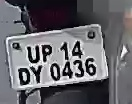0: (48, 61, 62, 82)
1: (56, 40, 70, 61)
3: (71, 57, 86, 80)
4: (62, 61, 75, 81), (71, 39, 84, 58)
6: (83, 55, 99, 79)
D: (18, 63, 31, 86)
P: (40, 42, 53, 63)
U: (23, 43, 41, 63)
Y: (30, 64, 44, 86)
